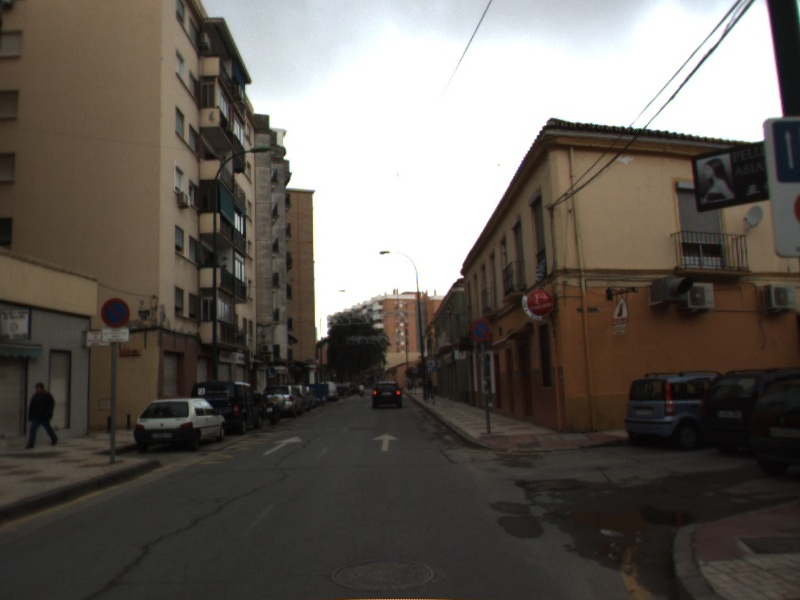STRAIGHT: (259, 434, 304, 457), (369, 431, 402, 453)
